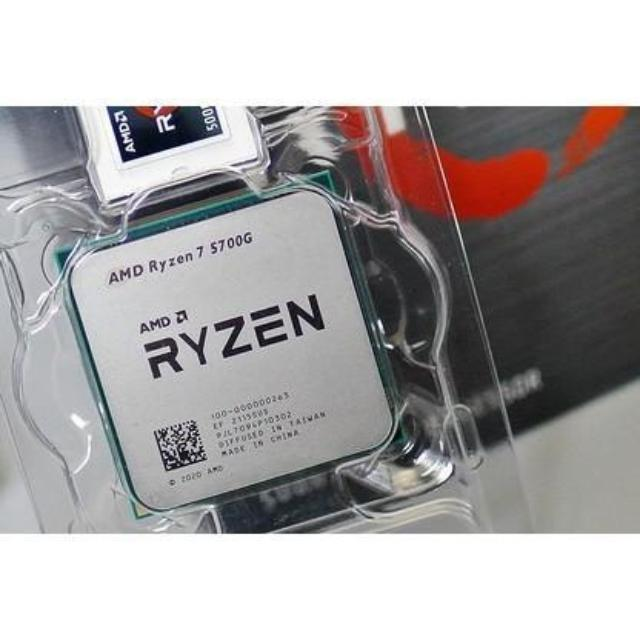CPU: (56, 182, 401, 509)
